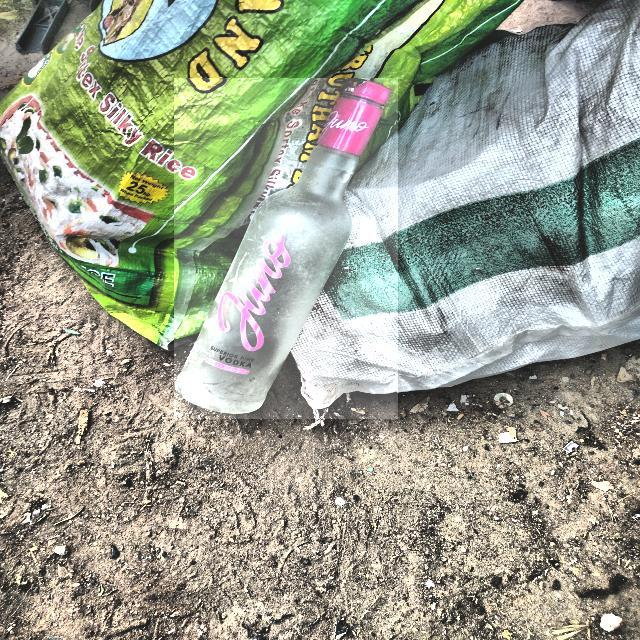anorganik: (174, 78, 397, 418)
